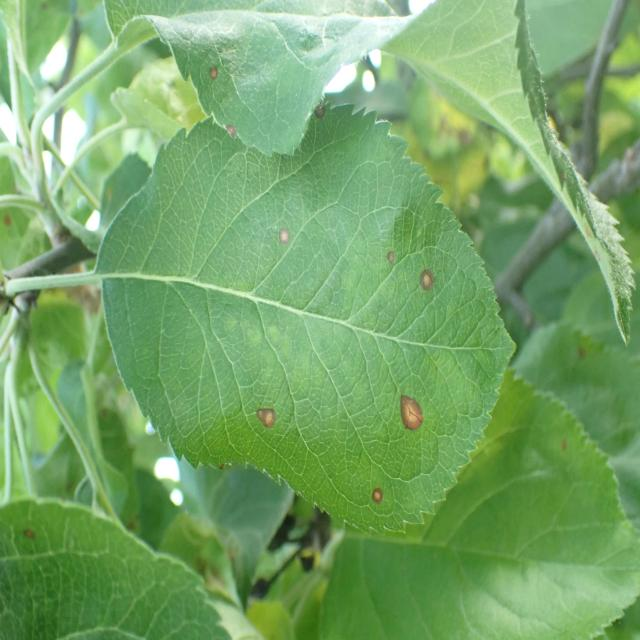frog-eye-leaf-spot: (94, 99, 516, 537), (105, 1, 397, 157)
